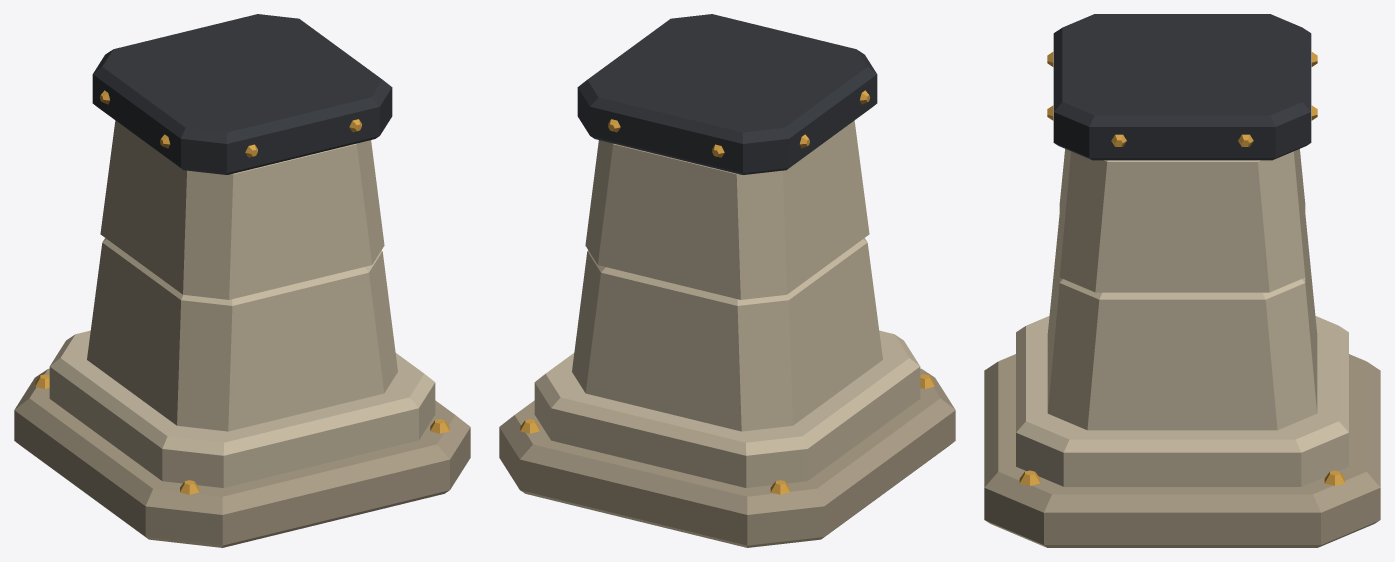
File: SniperBase.obj
3 views of the same model, side by side, from view 1: azimuth 30°, elevation 25°; view 2: azimuth 150°, elevation 25°; view 3: azimuth 270°, elevation 25° (orthographic). The views are drawn at different scales.
Visible parts, largest first — view 1: SniperBase; view 2: SniperBase; view 3: SniperBase.
Boxes of the visible parts, box(x1,y1,x2,y2) form: SniperBase: box(14, 14, 470, 547); SniperBase: box(499, 14, 955, 547); SniperBase: box(984, 14, 1380, 547).
Bounding box in the file's own units: 1 × 1.12 × 1.
